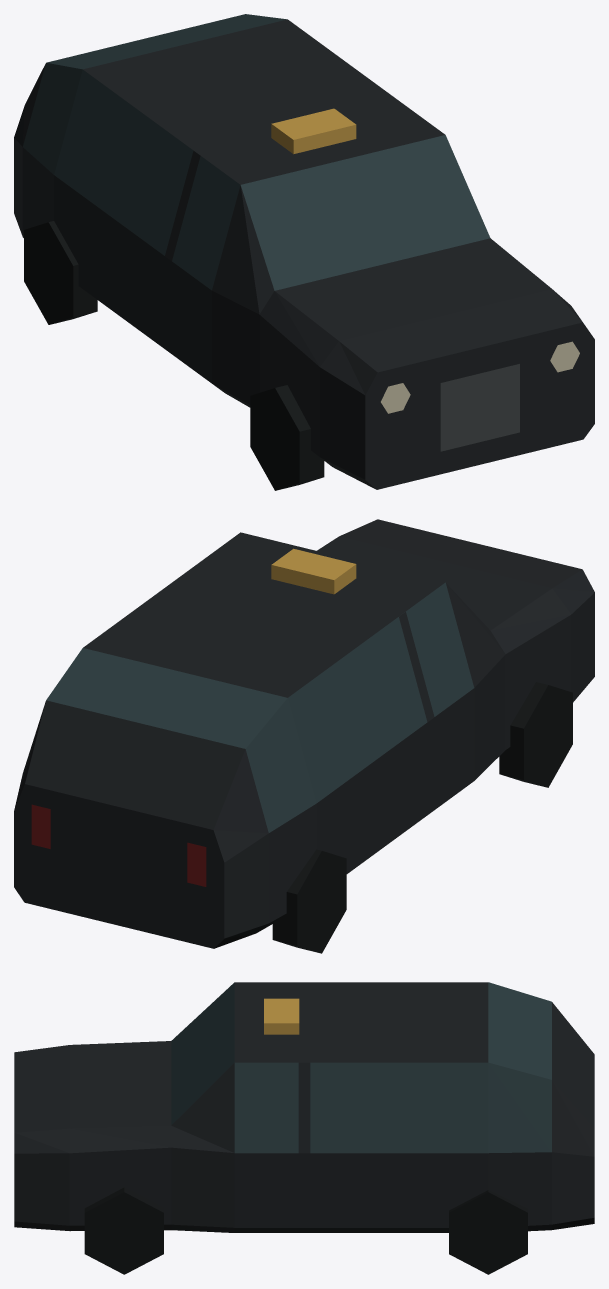
The model's file is taksi-2-vanha.glb.
The picture shows the model from 3 angles, top to bottom: view 1: azimuth 30°, elevation 25°; view 2: azimuth 150°, elevation 25°; view 3: azimuth 270°, elevation 25°; orthographic projection. The views are drawn at different scales.
Parts seen in each view (by area): view 1: taksi-2-vanha; view 2: taksi-2-vanha; view 3: taksi-2-vanha.
Part boxes in pixels (box(x1,y1,x2,y2)): taksi-2-vanha: box(14, 14, 594, 490); taksi-2-vanha: box(14, 519, 594, 953); taksi-2-vanha: box(14, 982, 594, 1274).
Size of the model in its own units: 2 by 1.83 by 4.58.
